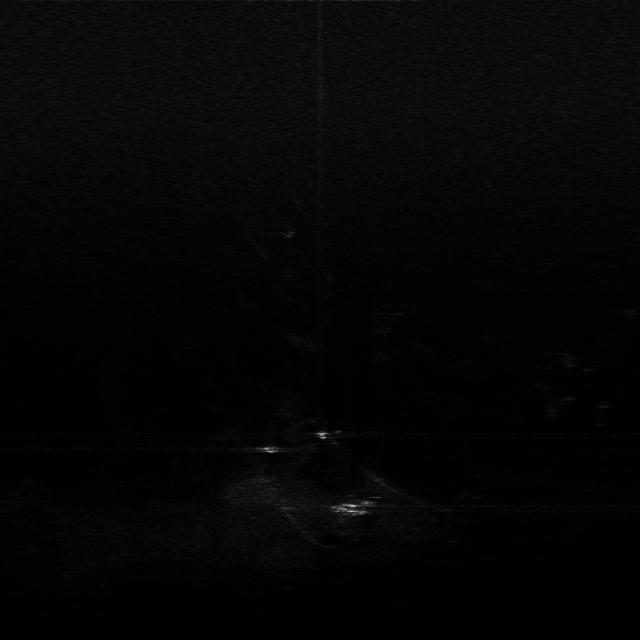rov: (326, 494, 373, 519)
